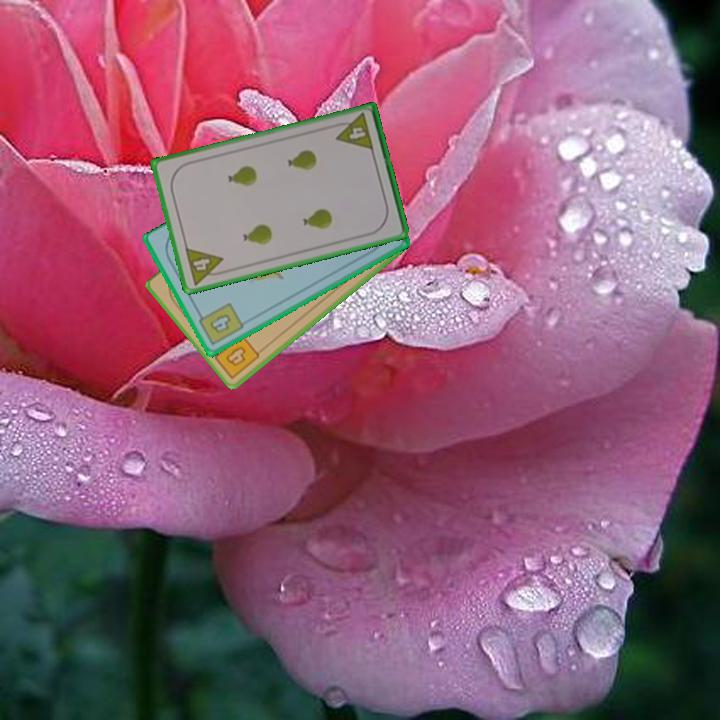4b: (208, 331, 263, 381), (194, 299, 247, 348)
4p: (181, 244, 229, 288), (330, 110, 376, 153)
